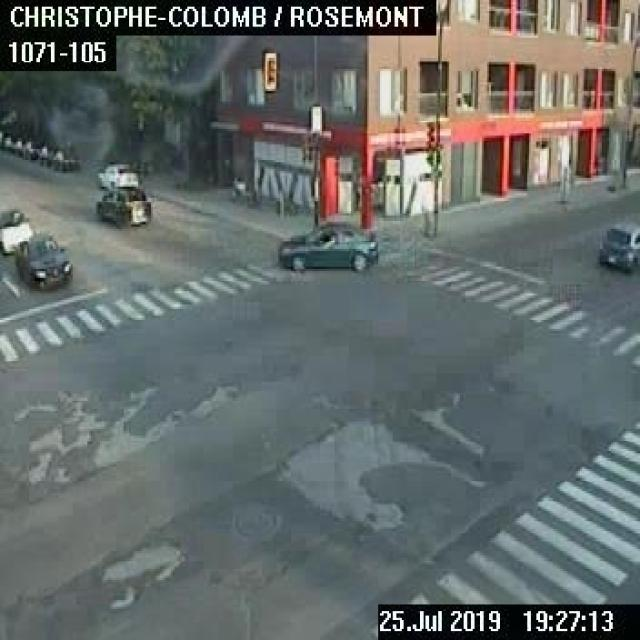vehicle: (276, 221, 376, 271), (13, 232, 71, 286), (95, 184, 151, 224), (597, 220, 638, 270), (0, 208, 31, 252), (96, 162, 137, 187), (50, 149, 74, 171), (22, 138, 41, 159), (37, 144, 56, 165), (4, 136, 22, 154)
